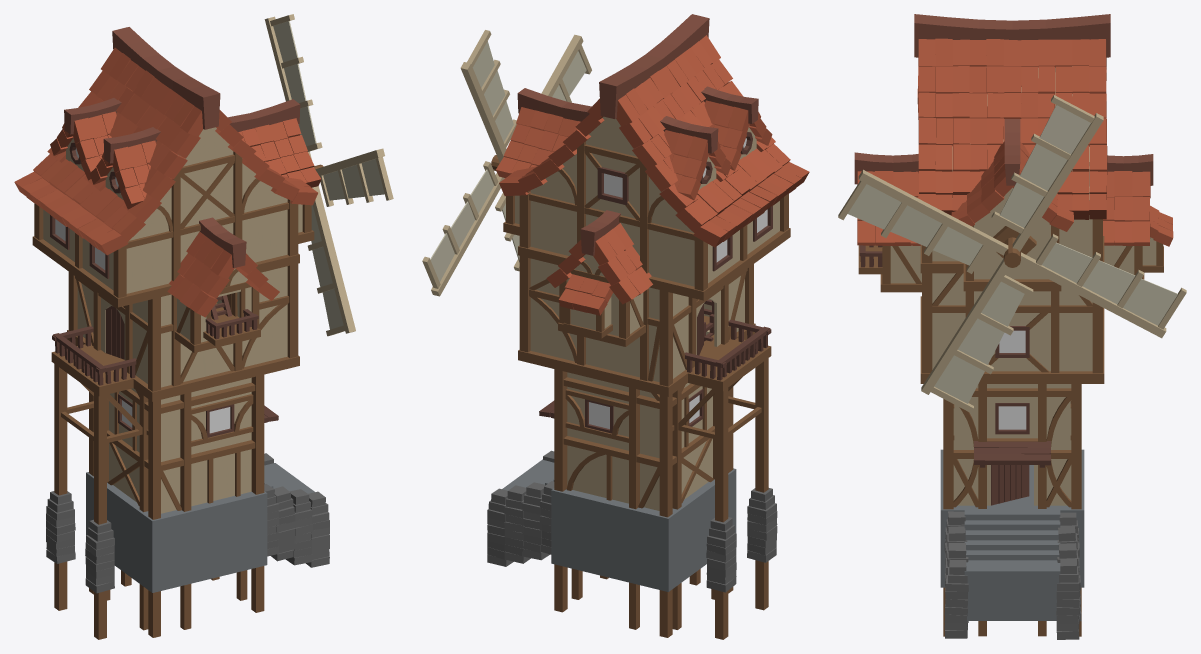
Rendered from fang04_6.fbx.
3 renders of one model, left to right at view 1: azimuth 30°, elevation 25°; view 2: azimuth 150°, elevation 25°; view 3: azimuth 270°, elevation 25°, orthographic. The views are drawn at different scales.
Parts seen in each view (by area): view 1: zhuzi.056, fang04, wuding2.013, 立方体.021, diban, 立方体.013, 立方体.146, fengche, 立方体.026, 立方体.090, wuding10, 立方体.014 (+8 smaller); view 2: zhuzi.056, fang04, wuding2.013, 立方体.021, diban, 立方体.013, 立方体.146, fengche, 立方体.067, 立方体.090, 立方体.014, wuding12 (+7 smaller); view 3: wuding2.013, fang04, 立方体.090, 立方体.021, fengche, zhuzi.056, 立方体.013, diban, wuding12, wuding3, 立方体.067, 立方体.146 (+7 smaller).
Part boxes in pixels (box(x1,y1,x2,y2)): zhuzi.056: box(34, 151, 311, 639); fang04: box(43, 127, 302, 513); wuding2.013: box(14, 47, 317, 255); 立方体.021: box(86, 463, 314, 592); diban: box(32, 230, 314, 401); 立方体.013: box(64, 27, 300, 267); 立方体.146: box(61, 161, 288, 510); fengche: box(264, 14, 393, 336); 立方体.026: box(264, 484, 329, 567); 立方体.090: box(273, 21, 384, 329); wuding10: box(167, 231, 279, 317); 立方体.014: box(46, 491, 114, 593); zhuzi.056: box(506, 141, 788, 639); fang04: box(515, 116, 779, 510); wuding2.013: box(499, 35, 809, 247); 立方体.021: box(502, 459, 736, 591); diban: box(503, 221, 790, 396); 立方体.013: box(517, 14, 758, 255); 立方体.146: box(529, 151, 761, 508); fengche: box(422, 30, 591, 296); 立方体.067: box(487, 481, 554, 566); 立方体.090: box(430, 41, 586, 281); 立方体.014: box(706, 488, 777, 592); wuding12: box(546, 223, 652, 304); wuding2.013: box(917, 38, 1107, 219); fang04: box(890, 66, 1156, 505); 立方体.090: box(847, 105, 1177, 403); 立方体.021: box(940, 449, 1084, 620); fengche: box(838, 95, 1186, 412); zhuzi.056: box(882, 219, 1163, 636); 立方体.013: box(854, 14, 1153, 185); diban: box(858, 236, 1163, 383); wuding12: box(1103, 171, 1150, 245); wuding3: box(951, 141, 1073, 231); 立方体.067: box(1056, 512, 1081, 639); 立方体.146: box(892, 246, 1132, 507).
Size of the model in its own units: 774 by 1508 by 816.
